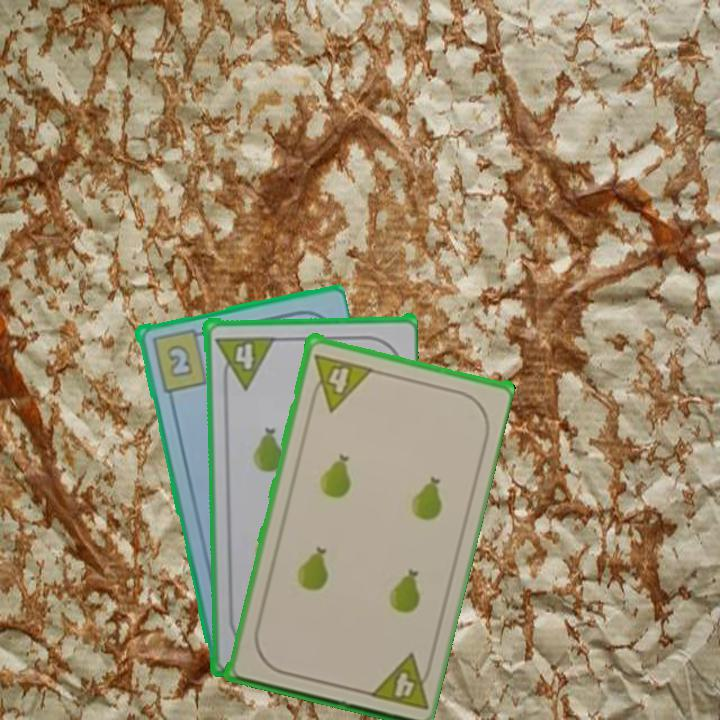2b: (148, 325, 209, 394)
4p: (363, 649, 436, 713), (305, 350, 374, 413), (211, 332, 276, 390)
